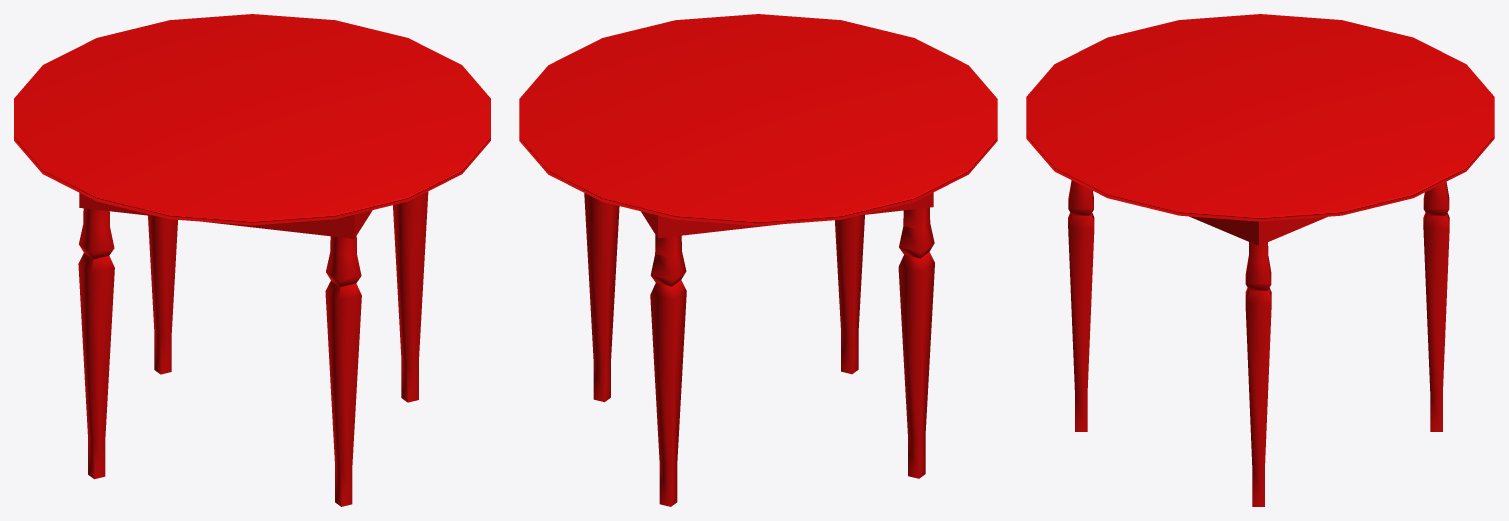
Rendered from Table_01_Lod1.fbx.
The picture shows the model from 3 angles, left to right: view 1: azimuth 30°, elevation 25°; view 2: azimuth 150°, elevation 25°; view 3: azimuth 270°, elevation 25°; orthographic projection. The views are drawn at different scales.
Parts seen in each view (by area): view 1: Table_01_Lod1; view 2: Table_01_Lod1; view 3: Table_01_Lod1.
Boxes of the visible parts, x1,y1,x2,y2 form: Table_01_Lod1: [14, 14, 490, 506]; Table_01_Lod1: [519, 14, 997, 506]; Table_01_Lod1: [1026, 14, 1494, 506].
Bounding box in the file's own units: 99.5 × 74.17 × 97.99.
